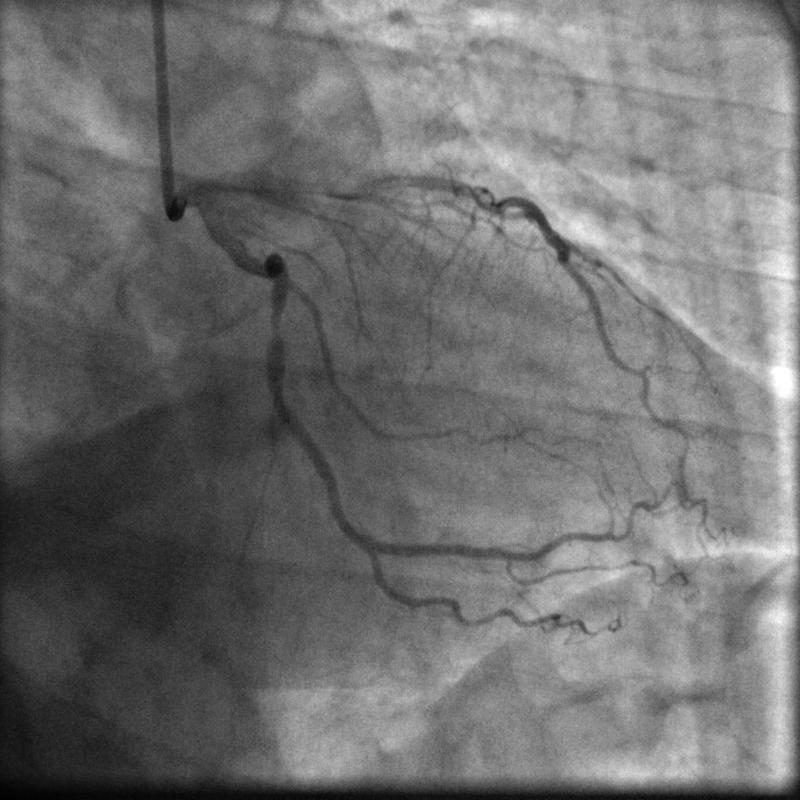Stenosis: (268, 312, 285, 341)
